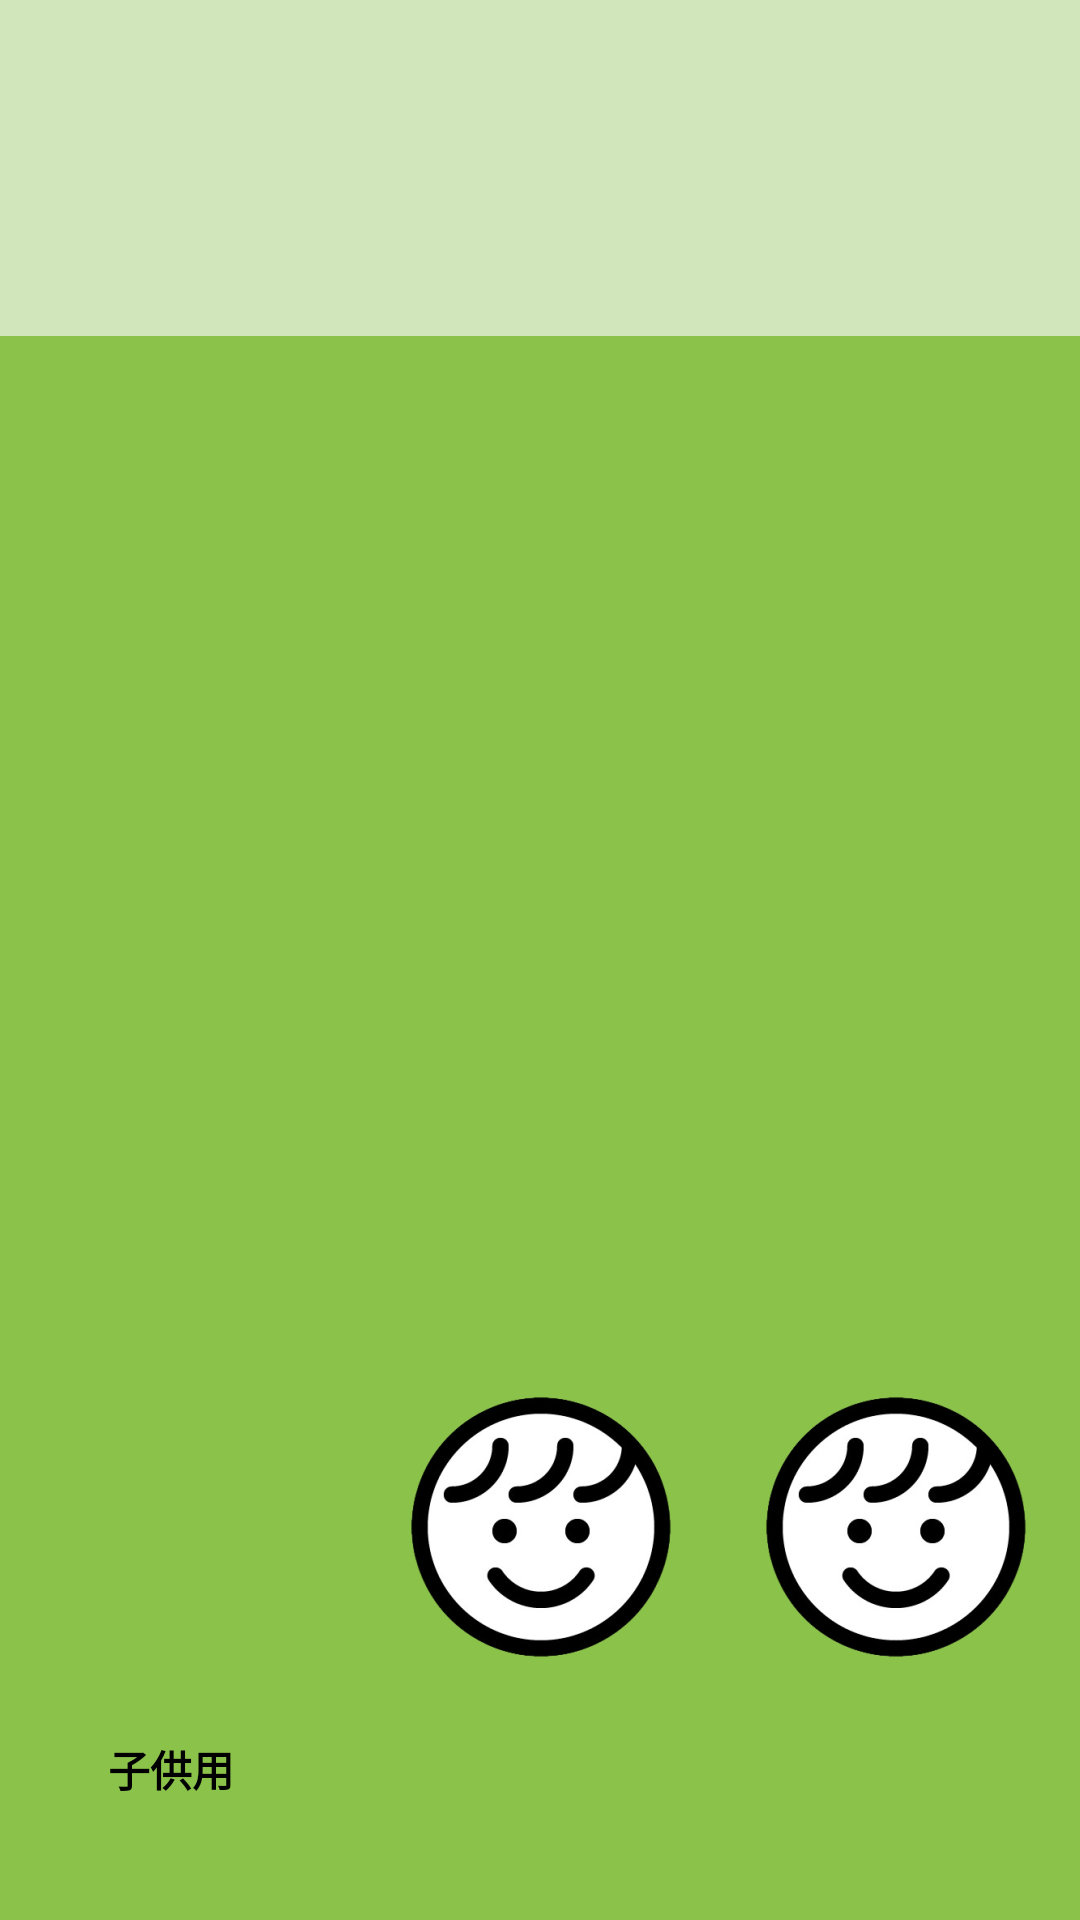

Where to tap for icons on this 1080x1920 app screen, as (x,y):
child: (541,1527), (896,1527)
